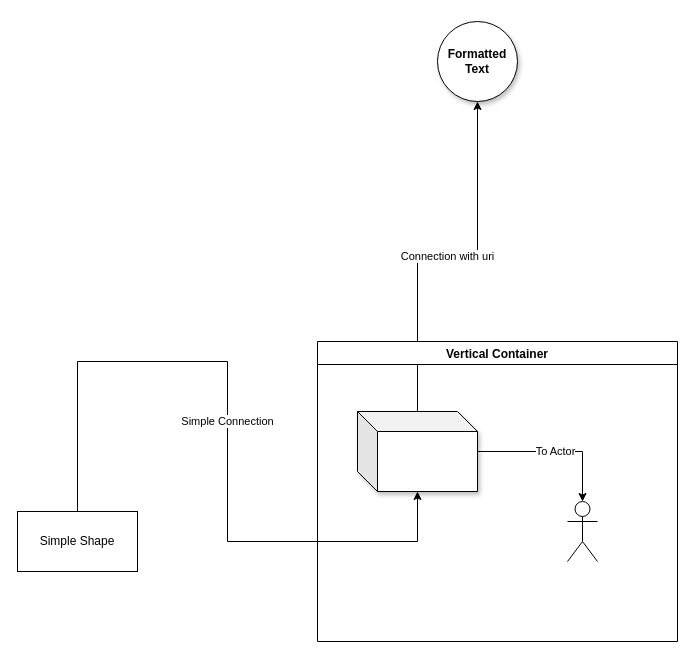
The diagram is 695 pixels wide and 659 high, and some of its shapes have lost their labels. Each missing label, with the centre of its shape:
Actor: (x=582, y=531)
Background thingie: (x=418, y=452)
